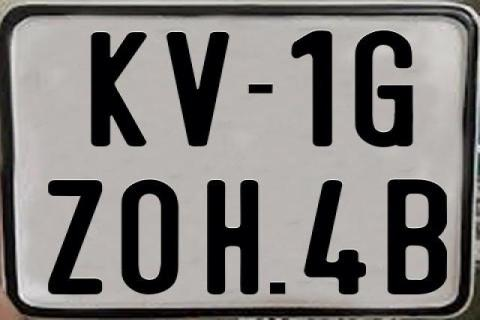0: (303, 180, 371, 294), (120, 177, 181, 293), (291, 29, 338, 149)
B: (387, 177, 447, 297)
G: (352, 30, 416, 148)
H: (206, 180, 258, 296)
K: (91, 31, 150, 146)
V: (164, 30, 231, 144)
Z: (47, 180, 107, 299)
